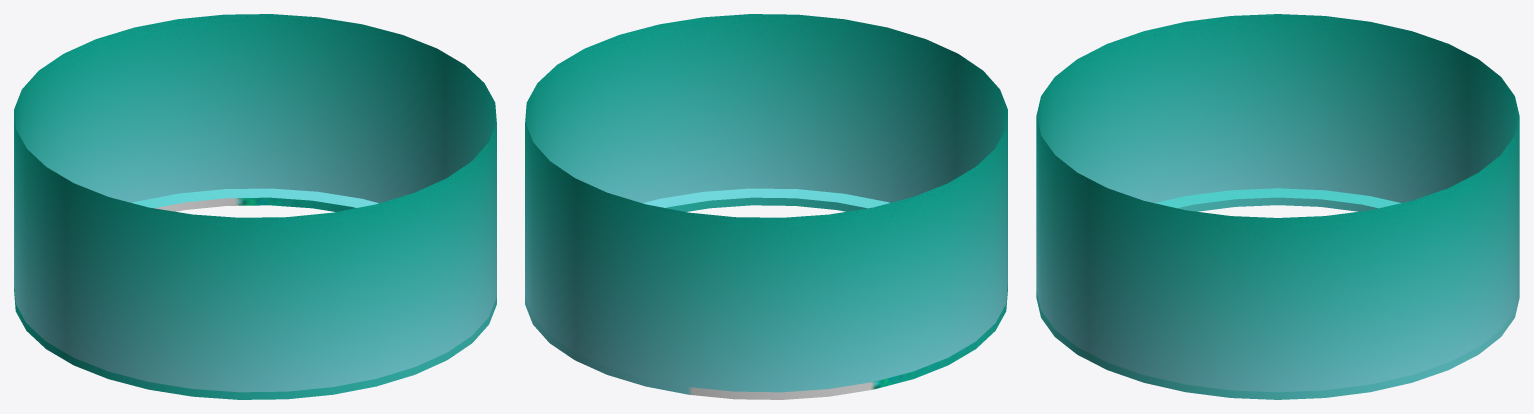
Rendered from Destination Target.fbx.
3 renders of one model, left to right at view 1: azimuth 30°, elevation 25°; view 2: azimuth 150°, elevation 25°; view 3: azimuth 270°, elevation 25°, orthographic.
Visible parts, largest first — view 1: Cylinder; view 2: Cylinder; view 3: Cylinder.
Part boxes in pixels (<box>): Cylinder: <box>14,14,496,399</box>; Cylinder: <box>525,14,1007,399</box>; Cylinder: <box>1036,14,1519,399</box>.
Bounding box in the file's own units: 241 × 100 × 241.
